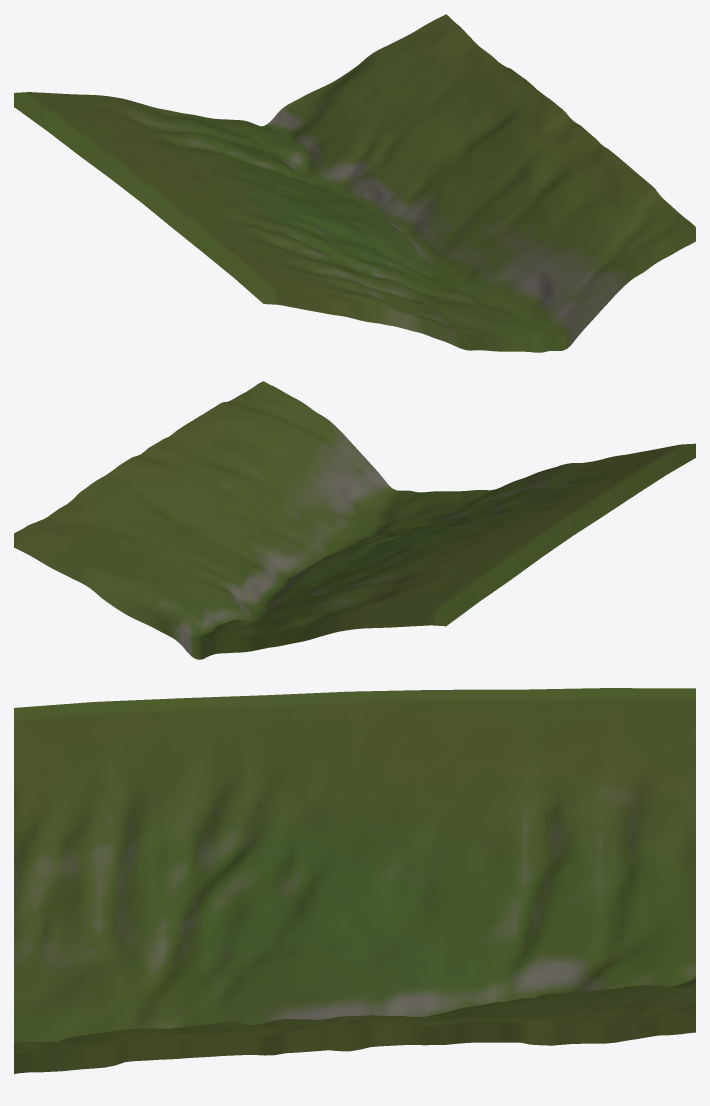
File: terrain_-2_-1.glb
The picture shows the model from 3 angles, top to bottom: view 1: azimuth 30°, elevation 25°; view 2: azimuth 150°, elevation 25°; view 3: azimuth 270°, elevation 25°; orthographic projection. The views are drawn at different scales.
Visible parts, largest first — view 1: terrain_-2_-1; view 2: terrain_-2_-1; view 3: terrain_-2_-1.
Boxes of the visible parts, x1,y1,x2,y2 form: terrain_-2_-1: (14, 14, 695, 352); terrain_-2_-1: (14, 381, 695, 659); terrain_-2_-1: (14, 688, 695, 1073).
Size of the model in its own units: 256 by 83.92 by 256.
